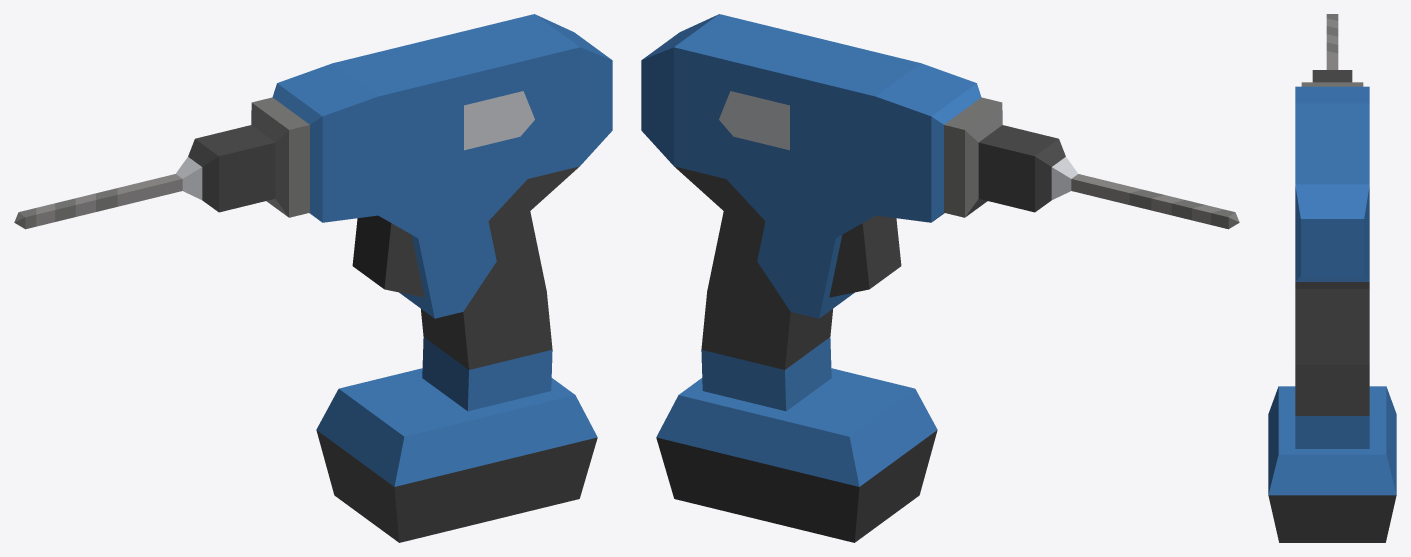
The model's file is SM_Item_Drill_01.fbx.
3 views of the same model, side by side, from view 1: azimuth 30°, elevation 25°; view 2: azimuth 150°, elevation 25°; view 3: azimuth 270°, elevation 25° (orthographic). The views are drawn at different scales.
Visible parts, largest first — view 1: SM_Item_Drill_01; view 2: SM_Item_Drill_01; view 3: SM_Item_Drill_01.
Part boxes in pixels (bbox=[...]): SM_Item_Drill_01: bbox=[14, 14, 612, 542]; SM_Item_Drill_01: bbox=[641, 14, 1239, 542]; SM_Item_Drill_01: bbox=[1268, 14, 1396, 542].
Size of the model in its own units: 45.71 by 33.33 by 10.68.
